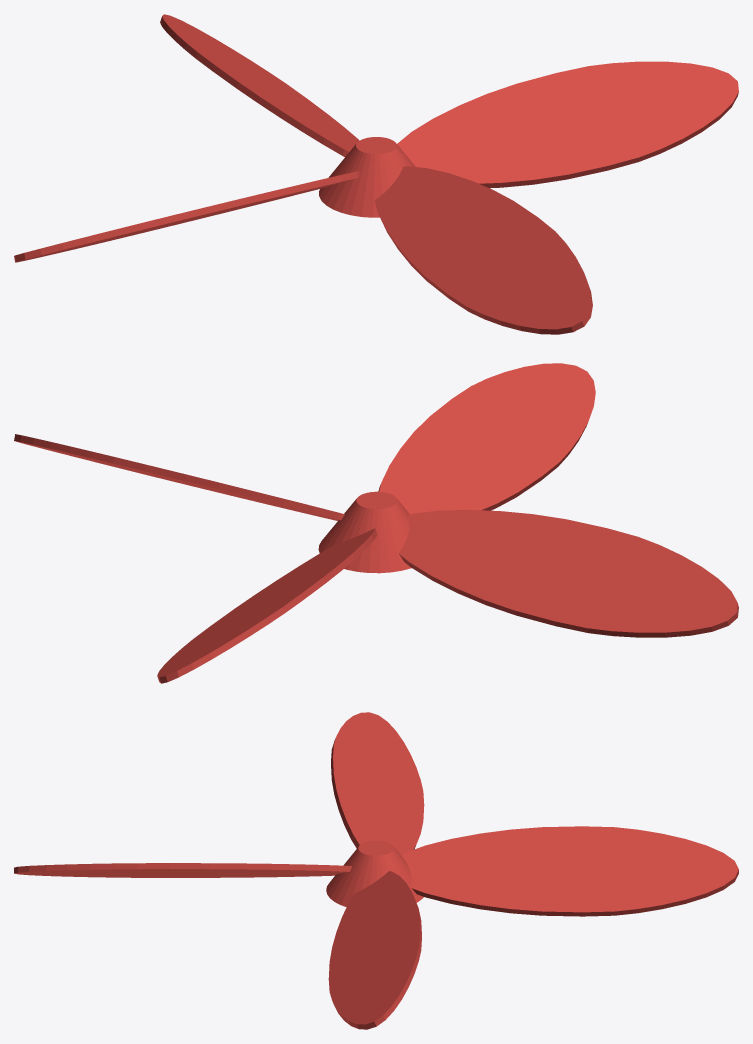
The model's file is elica.dae.
3 renders of one model, top to bottom at view 1: azimuth 30°, elevation 25°; view 2: azimuth 150°, elevation 25°; view 3: azimuth 270°, elevation 25°, orthographic. The views are drawn at different scales.
Parts seen in each view (by area): view 1: Cone; view 2: Cone; view 3: Cone.
Boxes of the visible parts, bbox=[...] form: Cone: bbox=[14, 14, 738, 334]; Cone: bbox=[14, 363, 738, 683]; Cone: bbox=[14, 712, 738, 1029].
Bounding box in the file's own units: 5 × 5 × 0.4.
